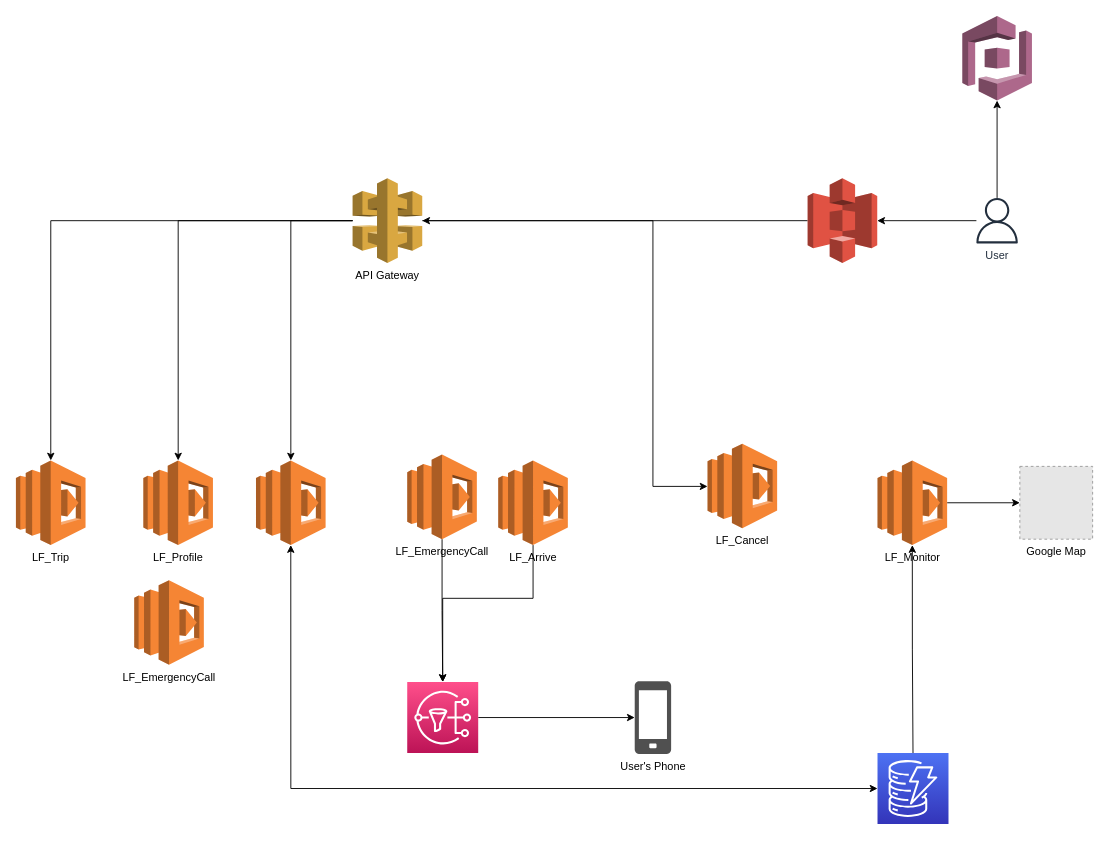
The diagram is 1109 pixels wide and 859 high, and some of its shapes have lost their labels. Grey dashed boxes stand in for pictures. The centre of each missing label's shape, as x and y in pixels:
"Cognito" goes at point 996,58.
"DynamoDB" goes at point 912,788.
"LF_Group" goes at point 290,502.
"S3" goes at point 842,220.
"SNS" goes at point 442,717.
